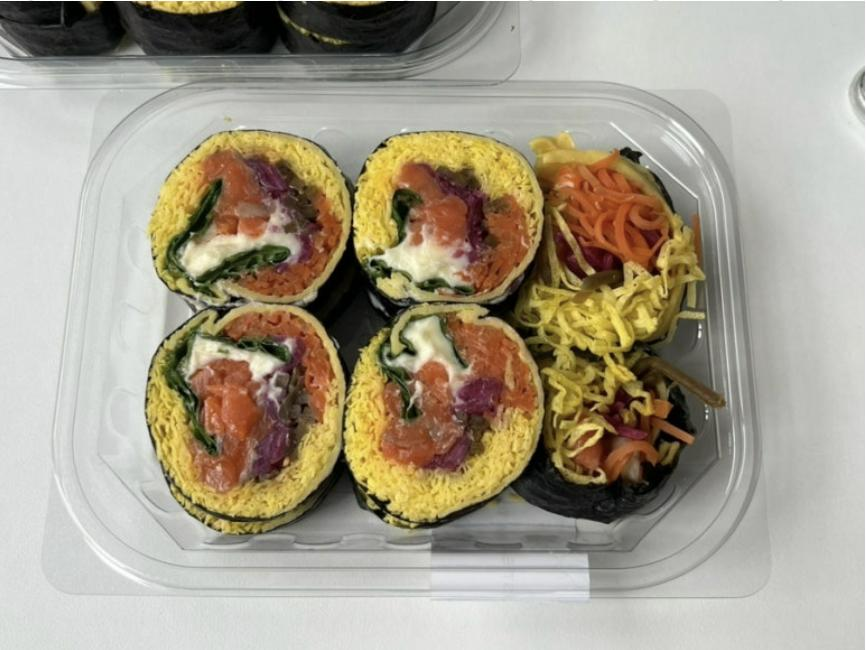Lunch Box: (43, 79, 770, 600), (0, 0, 519, 87)
